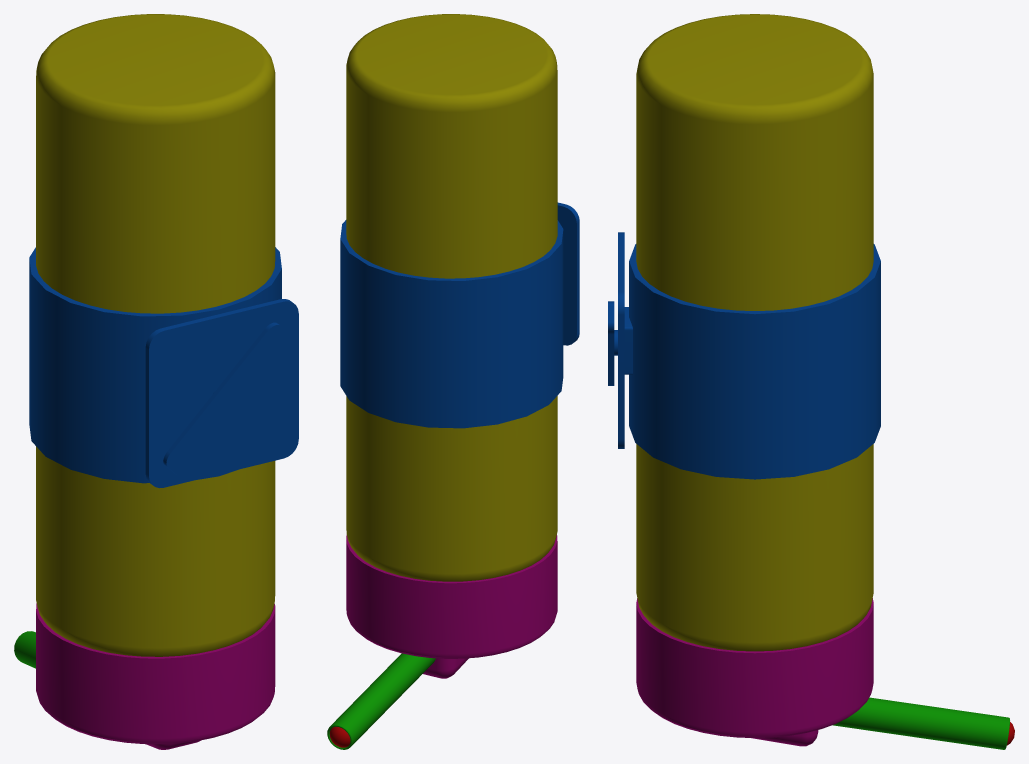
Rendered from SM_Biberon.fbx.
3 renders of one model, left to right at view 1: azimuth 30°, elevation 25°; view 2: azimuth 150°, elevation 25°; view 3: azimuth 270°, elevation 25°, orthographic. The views are drawn at different scales.
Visible parts, largest first — view 1: pCylinder6; view 2: pCylinder6; view 3: pCylinder6.
Part boxes in pixels (left/top/right/bottom): pCylinder6: left=14, top=14, right=298, bottom=749; pCylinder6: left=327, top=14, right=579, bottom=749; pCylinder6: left=608, top=14, right=1014, bottom=749.
Bounding box in the file's own units: 2.12 × 6.4 × 3.43.
